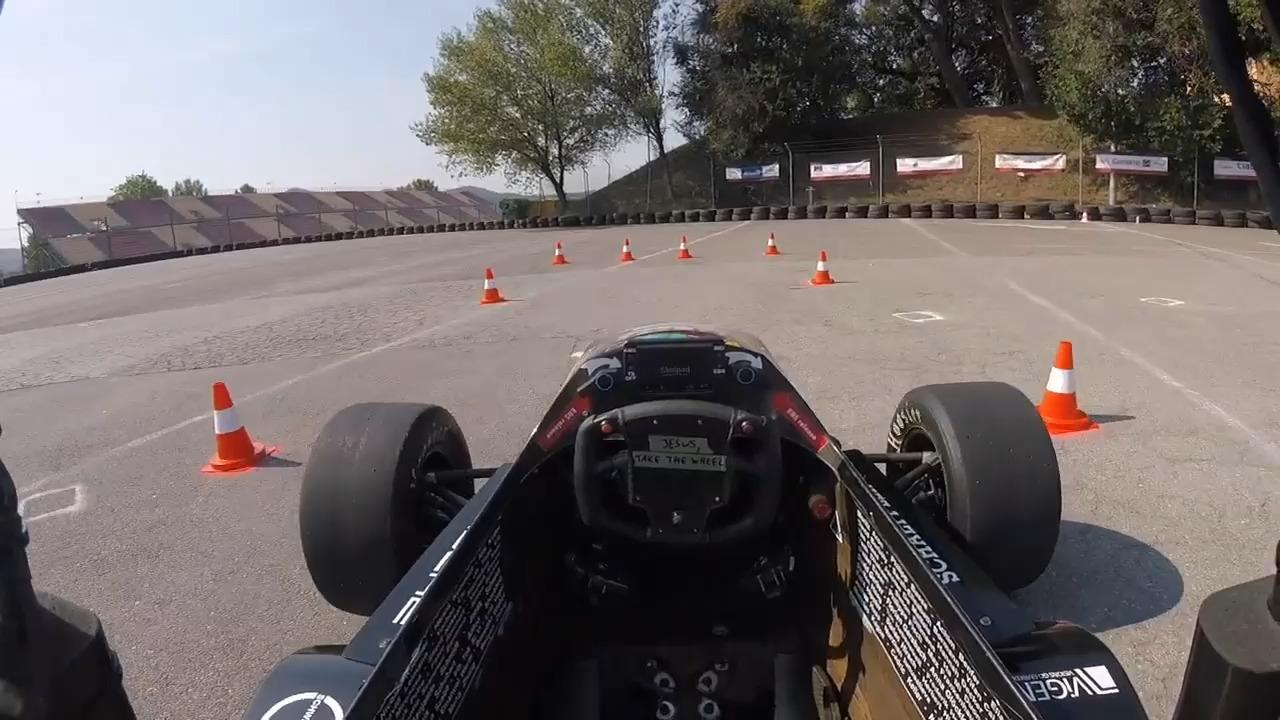orange_cone: (195, 380, 271, 478), (1034, 342, 1093, 434), (809, 250, 837, 286), (478, 268, 504, 306), (763, 231, 781, 255), (619, 237, 634, 263), (552, 242, 568, 266), (678, 237, 691, 260)
